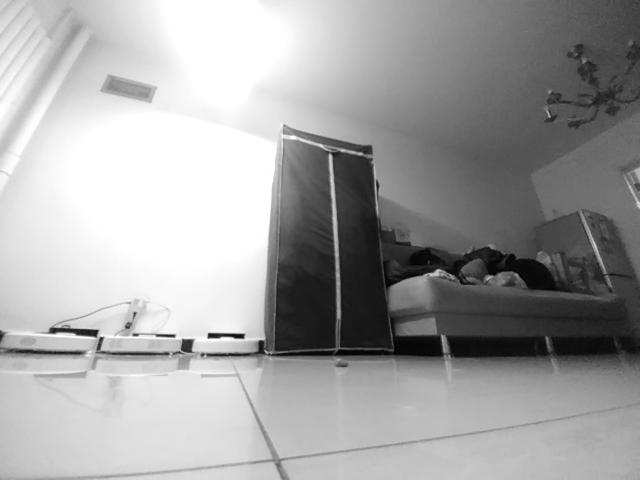pet feces: (333, 357, 349, 369)
